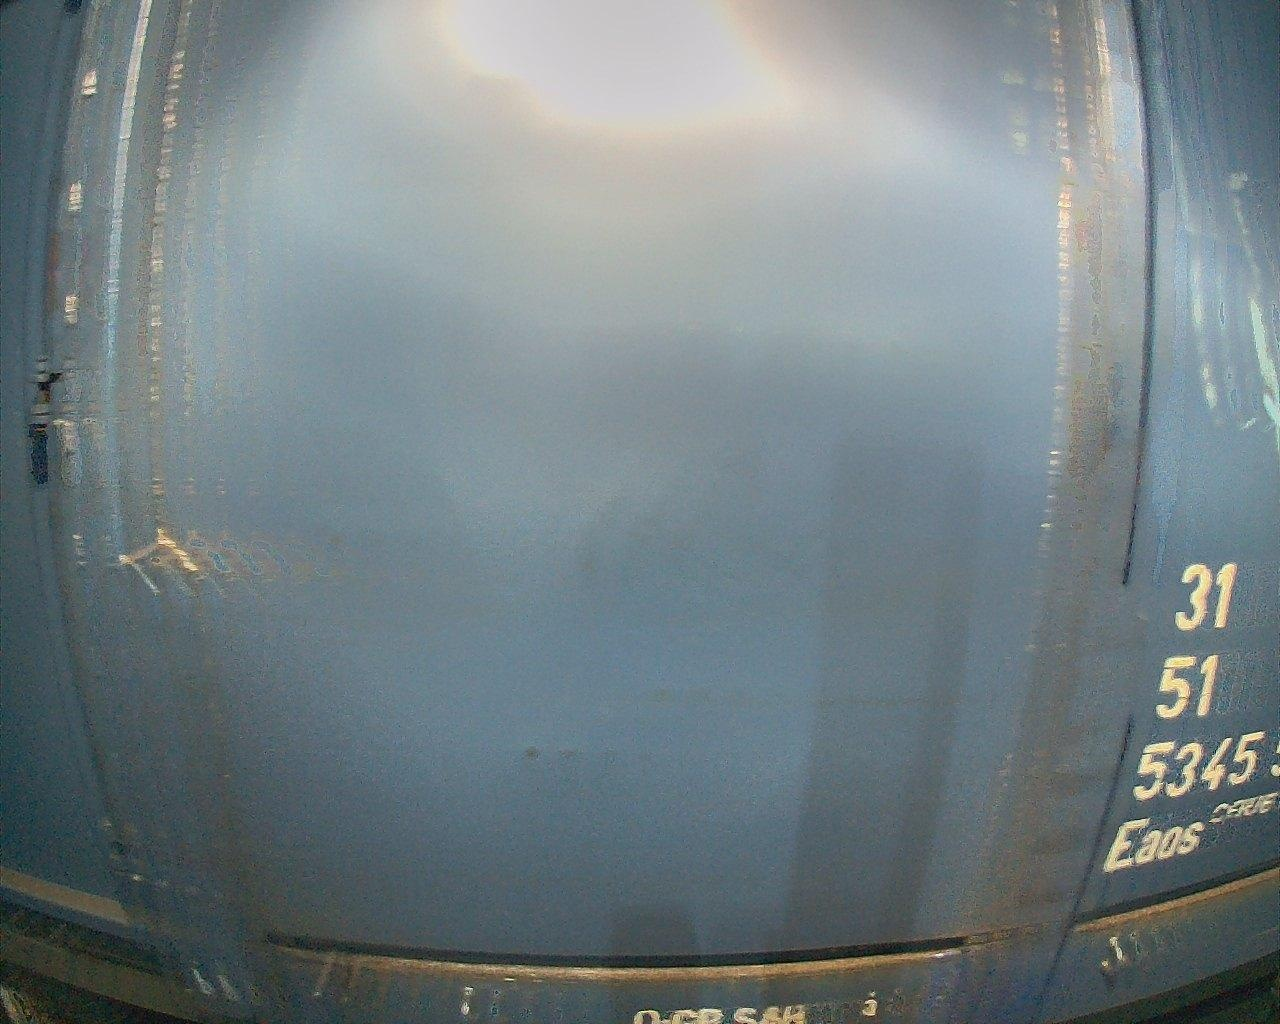UIC: (1094, 556, 1280, 877)
